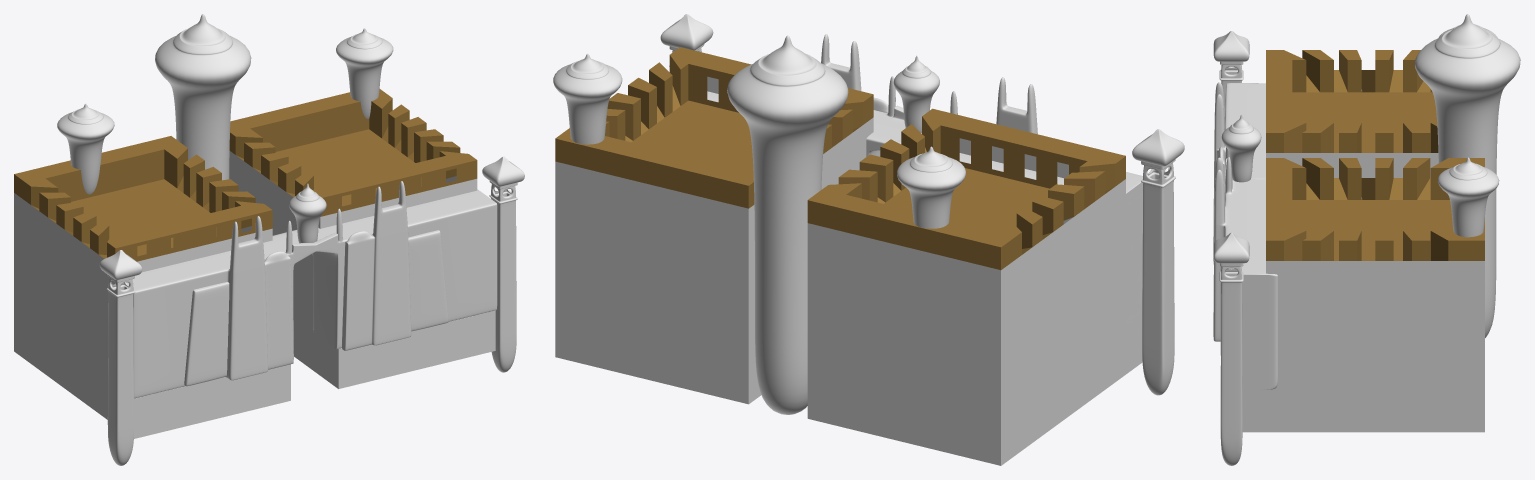
The model's file is old-building-in-a-desert.fbx.
3 views of the same model, side by side, from view 1: azimuth 30°, elevation 25°; view 2: azimuth 150°, elevation 25°; view 3: azimuth 270°, elevation 25° (orthographic). The views are drawn at different scales.
Parts seen in each view (by area): view 1: Cube, Cube.004, Cube.012, Cube.024, Cube.003, Cube.013, Cube.008, Cube.007, Cube.001; view 2: Cube.004, Cube.012, Cube.024, Cube.003, Cube, Cube.007, Cube.008, Cube.001, Cube.013; view 3: Cube.012, Cube.004, Cube, Cube.024, Cube.013, Cube.007, Cube.001, Cube.003.
Part boxes in pixels (x1,y1,x2,y2): Cube: (126, 181, 497, 398); Cube.004: (14, 136, 290, 438); Cube.012: (229, 89, 495, 388); Cube.024: (155, 14, 251, 180); Cube.003: (99, 250, 142, 465); Cube.013: (482, 156, 524, 372); Cube.008: (57, 103, 114, 194); Cube.007: (336, 28, 393, 118); Cube.001: (289, 183, 326, 243); Cube.004: (807, 108, 1142, 465); Cube.012: (555, 47, 873, 404); Cube.024: (727, 35, 848, 414); Cube.003: (1132, 129, 1184, 395); Cube: (707, 34, 1142, 324); Cube.007: (553, 53, 622, 144); Cube.008: (897, 146, 965, 228); Cube.001: (893, 55, 939, 132); Cube.013: (660, 14, 713, 66); Cube.012: (1242, 158, 1484, 432); Cube.004: (1266, 50, 1438, 177); Cube: (1213, 82, 1277, 389); Cube.024: (1415, 14, 1520, 337); Cube.013: (1213, 232, 1249, 465); Cube.007: (1438, 157, 1499, 237); Cube.001: (1221, 114, 1261, 182); Cube.003: (1213, 31, 1249, 126).
Size of the model in its own units: 982 by 741 by 588.
